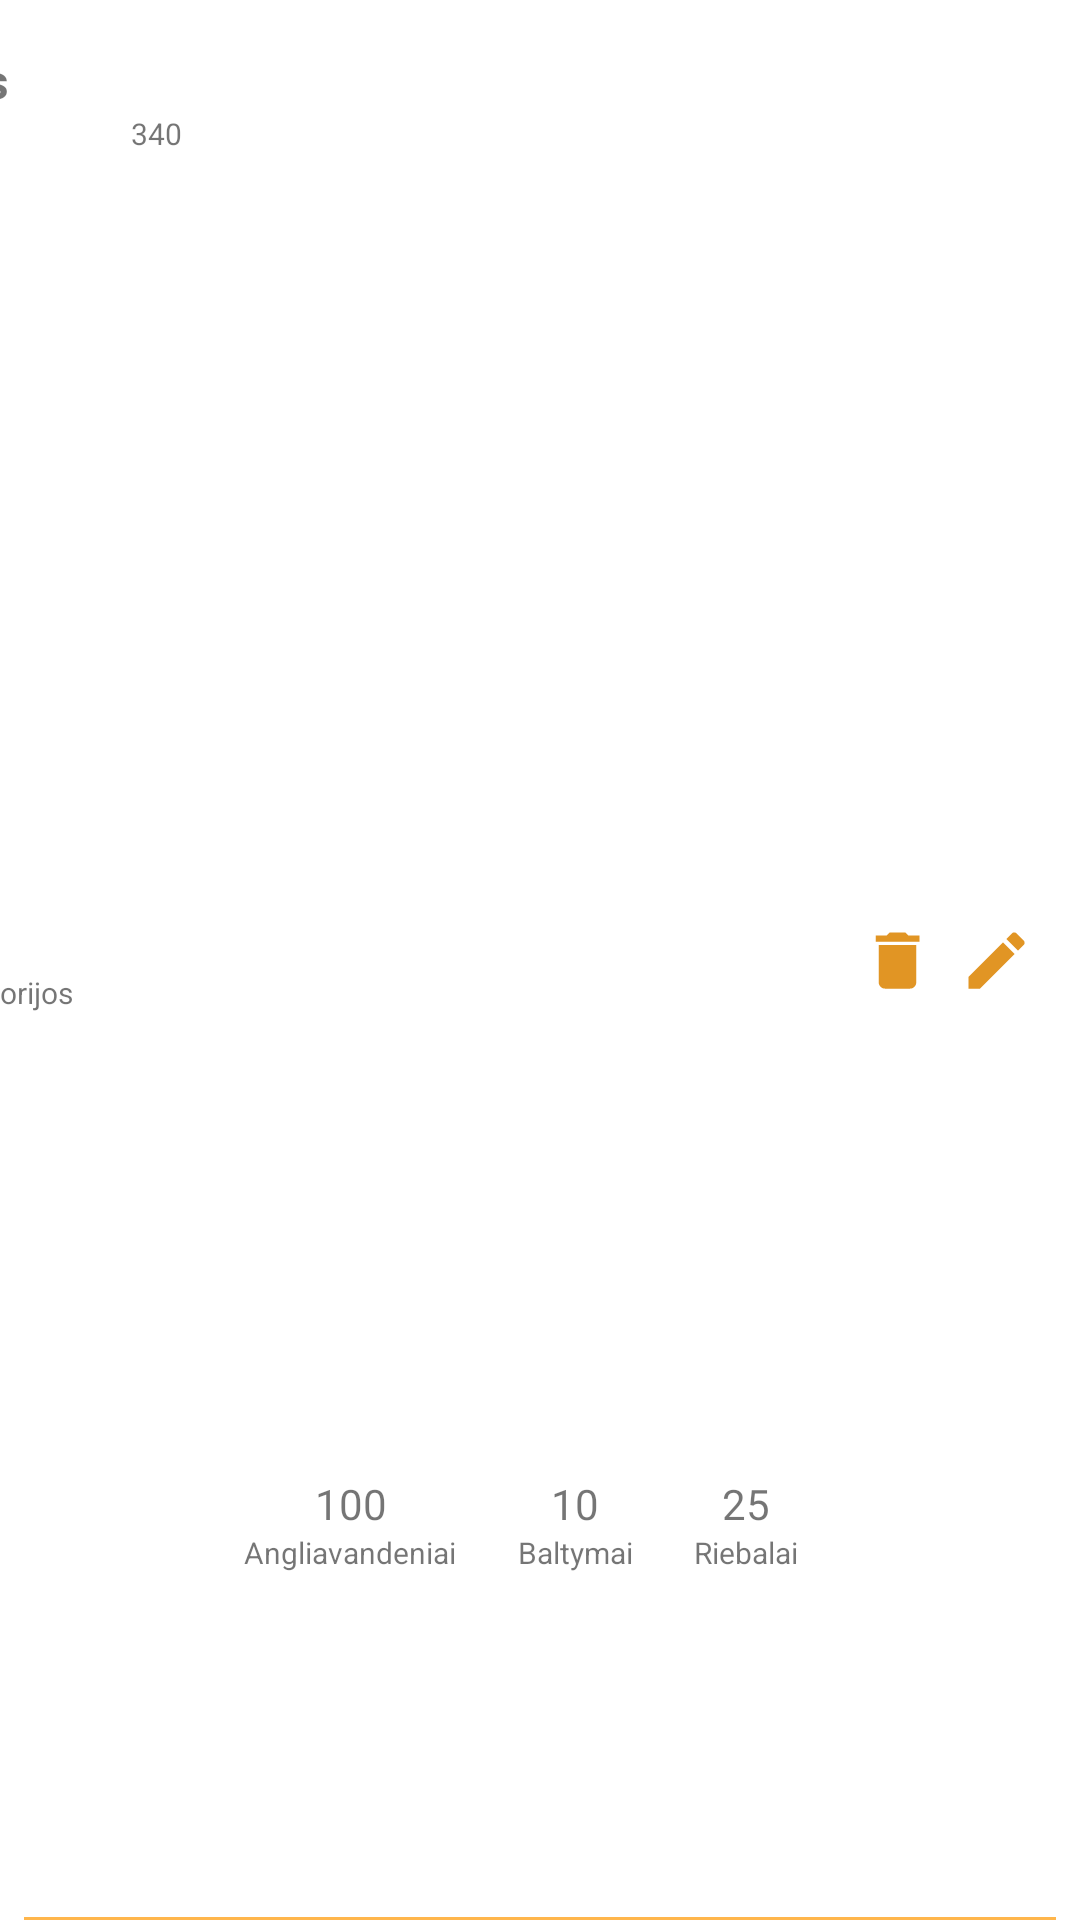

Named icons in this screenshot (1080x1920) and their centers, [x,y]:
delete: [897,960]
edit: [996,960]
